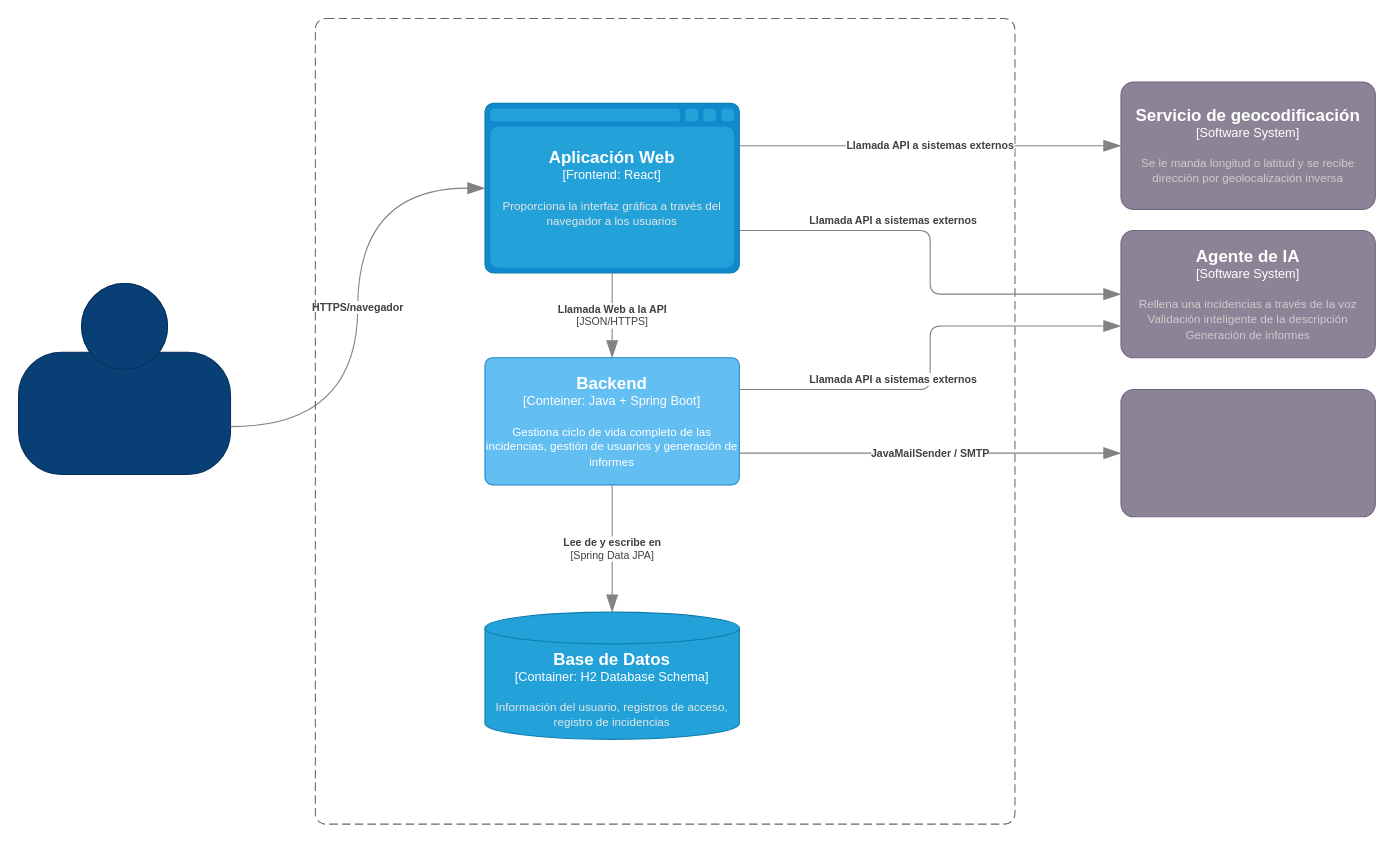
Some shapes in this 1394 by 843 pixel diagram are drawn without their labels. Here are the shapes that lost their labels. From the top down, the box of each, then its label:
(17, 282, 231, 474): Usuarios [Ciudadano/Operador Municipal/Técnico] Actores principales del sistema
(314, 17, 1015, 824): Sistema GIU [Contenedores internos]
(1120, 388, 1375, 517): Buzón notificaciones [Buzón] Notificaciones a ciudadanos, operadores y técnicos
